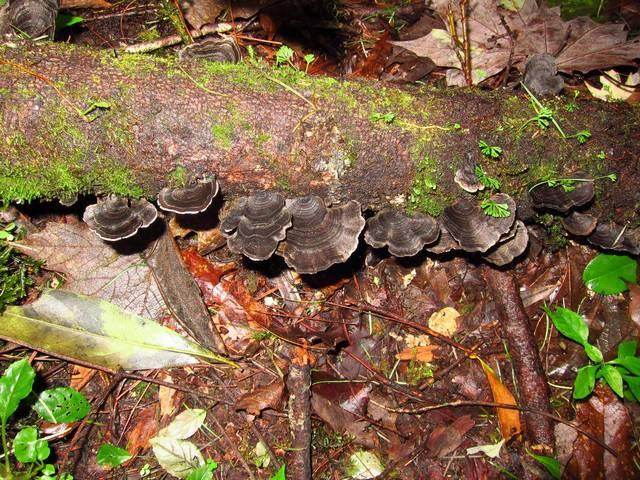poisonous_mushroom: (278, 193, 365, 274), (220, 188, 292, 262), (440, 192, 517, 254), (363, 206, 440, 258), (81, 191, 157, 242), (156, 173, 219, 216)
